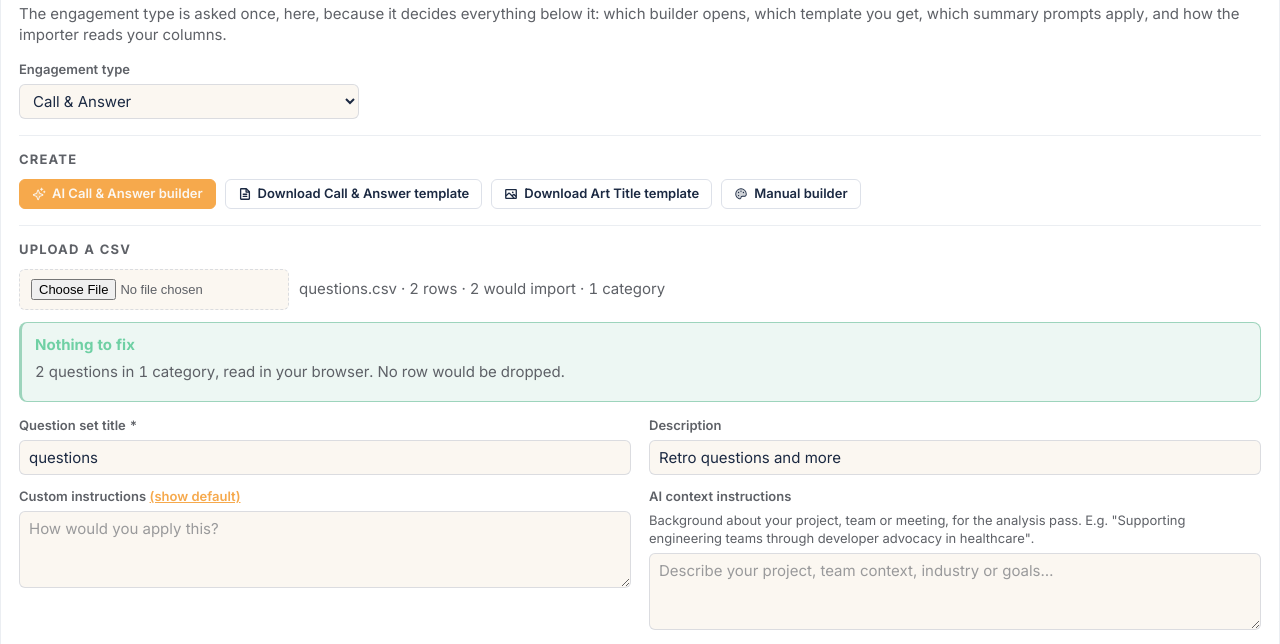
the upload itself › a rejected upload is an alert and the list is not re-read
Earlier steps of the test are not shown.
Expected: the element that starts with "Nothing to fix" is shown, [19,322,1261,402]
Replace the text in the field labelled "Question set title *" with "Q3 Retro": x=325, y=457 [19,440,631,475]
(page scrolled)
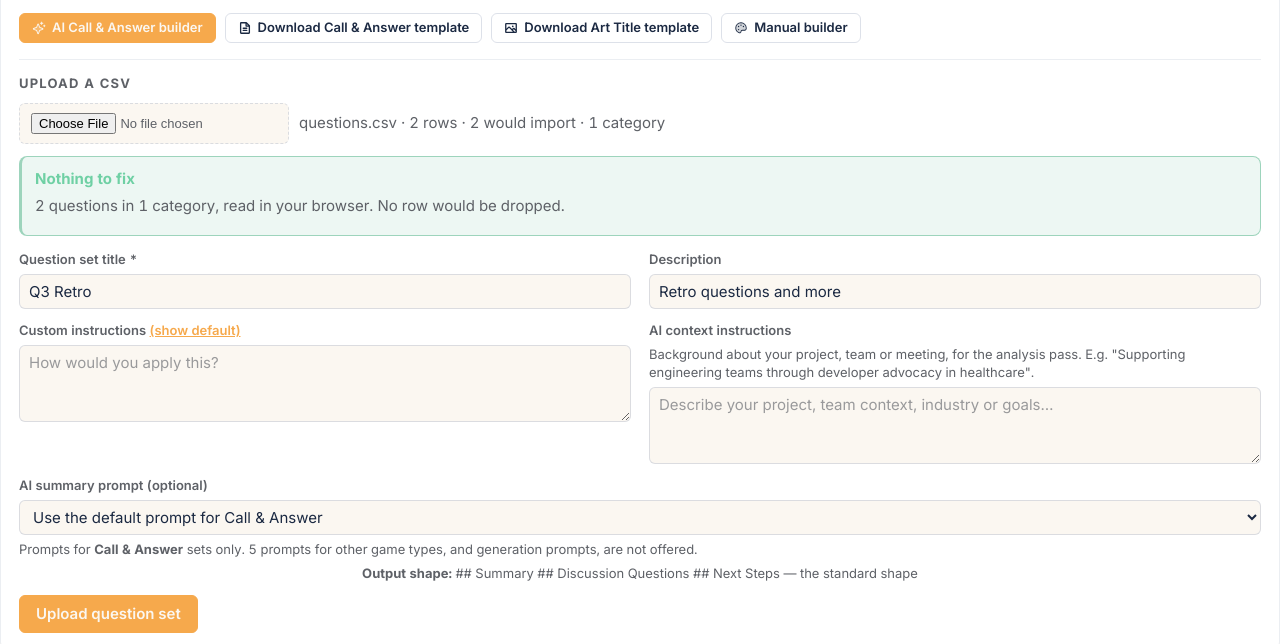
Click the button "Upload question set": x=108, y=614 [19,595,198,633]
(page scrolled)
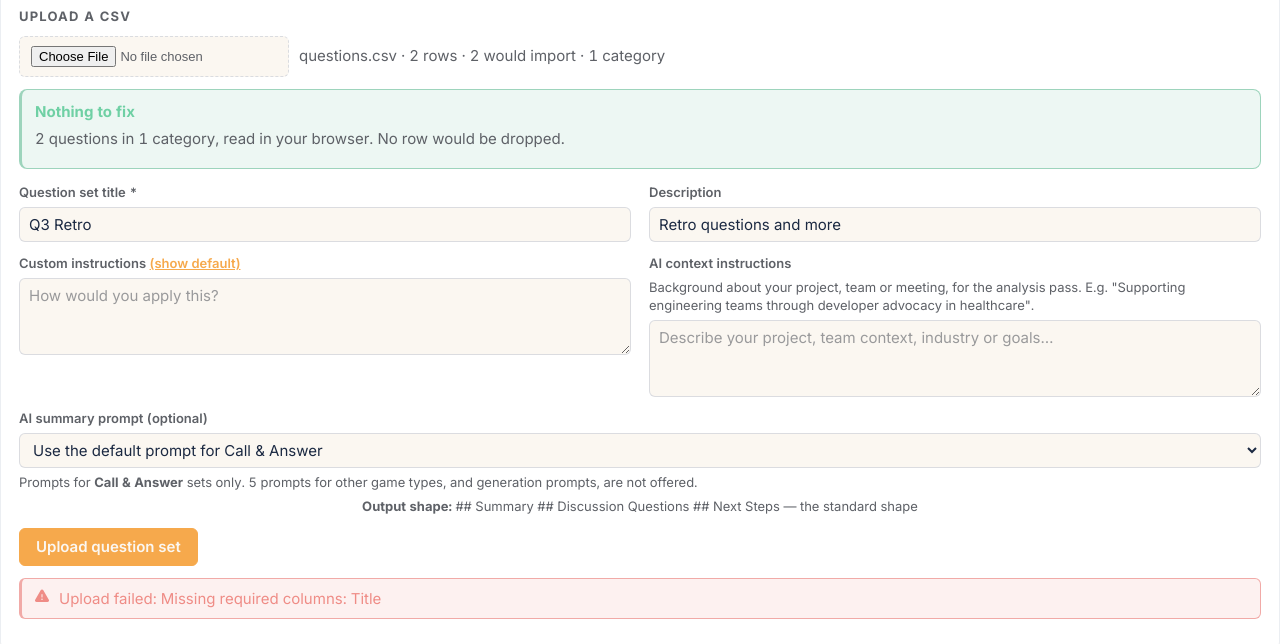
Result: the message shows "Missing required columns" at [59,589,381,608]
